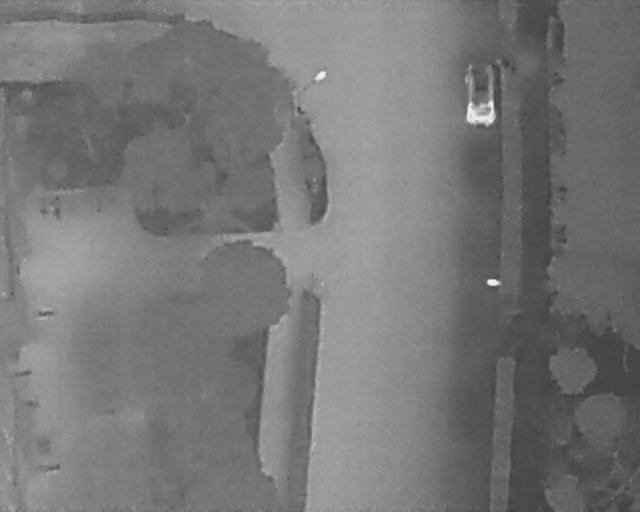Car: (465, 61, 498, 127)
